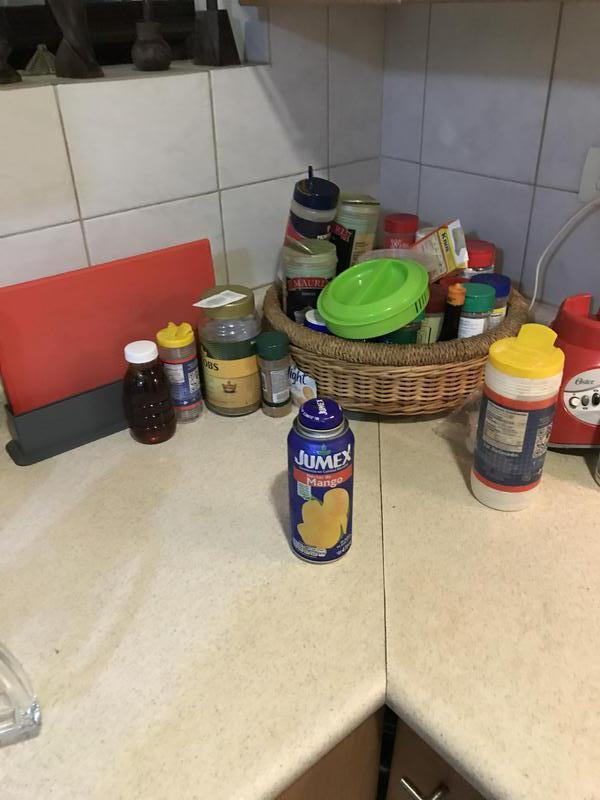jugo_jumex: (289, 399, 354, 563)
